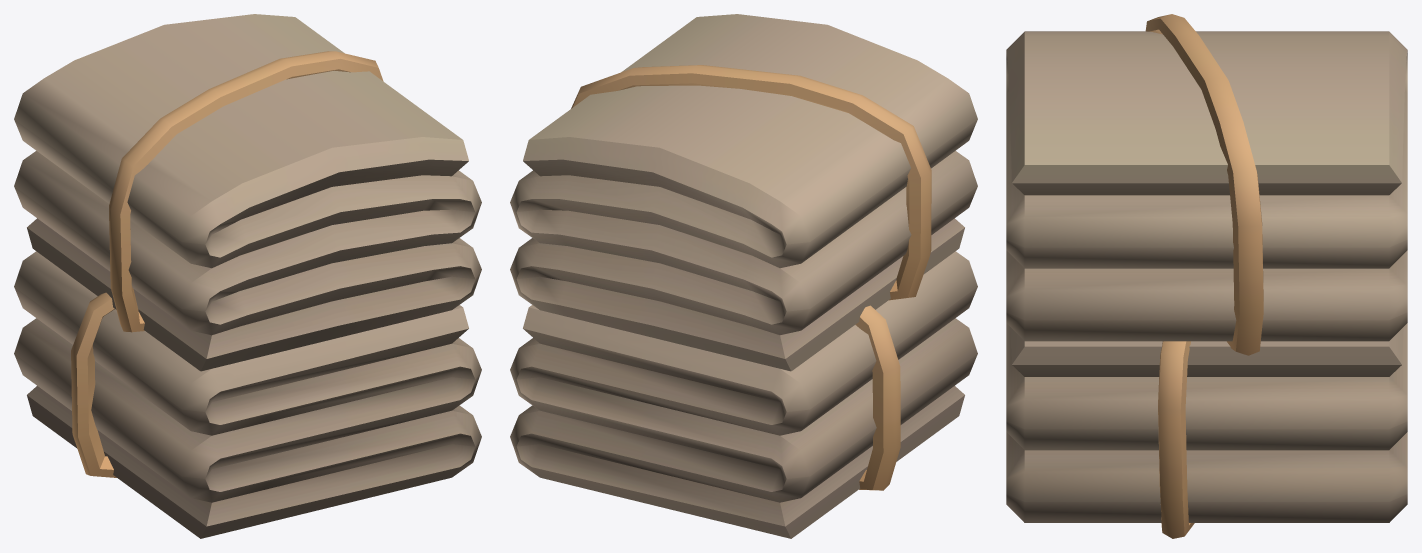
File: textiles_b.glb
3 renders of one model, left to right at view 1: azimuth 30°, elevation 25°; view 2: azimuth 150°, elevation 25°; view 3: azimuth 270°, elevation 25°, orthographic. The views are drawn at different scales.
Visible parts, largest first — view 1: Textiles_B; view 2: Textiles_B; view 3: Textiles_B.
Boxes of the visible parts, box(x1,y1,x2,y2) form: Textiles_B: box(14, 14, 481, 538); Textiles_B: box(510, 14, 977, 538); Textiles_B: box(1006, 14, 1407, 538).
Size of the model in its own units: 0.8196 by 0.9318 by 0.8.
1 material, 1 textured.
